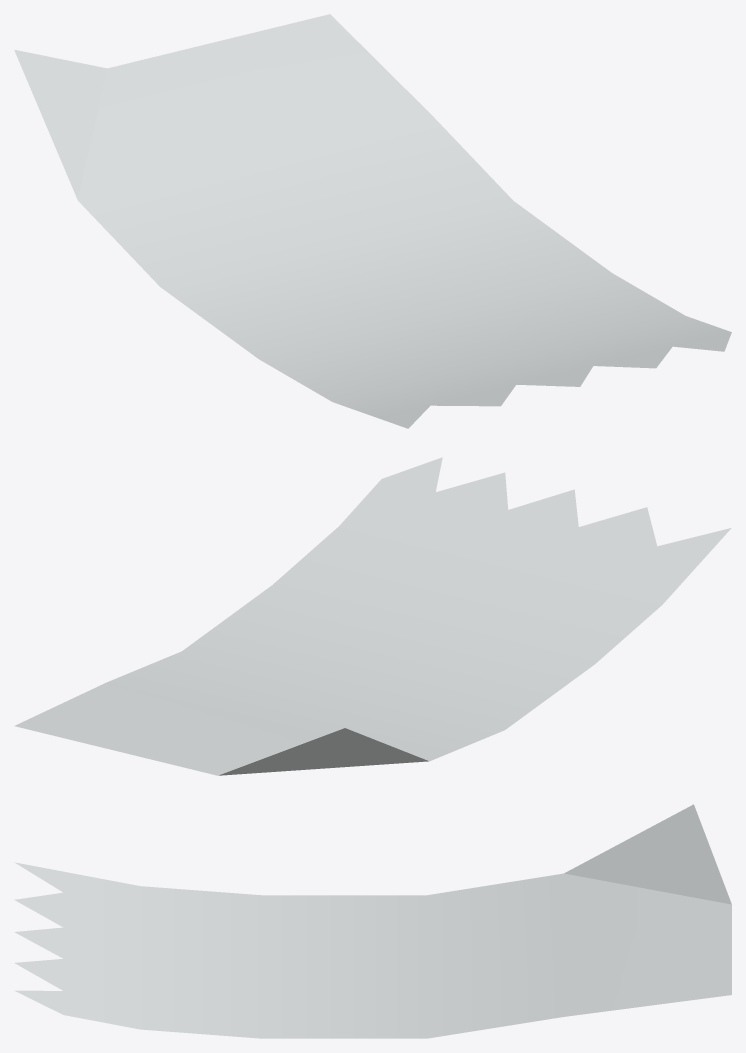
Rendered from receipt.fbx.
The picture shows the model from 3 angles, top to bottom: view 1: azimuth 30°, elevation 25°; view 2: azimuth 150°, elevation 25°; view 3: azimuth 270°, elevation 25°; orthographic projection. The views are drawn at different scales.
Parts seen in each view (by area): view 1: receipt; view 2: receipt; view 3: receipt.
Boxes of the visible parts, <box> form: receipt: <box>14,14,731,428</box>; receipt: <box>14,457,731,775</box>; receipt: <box>14,804,731,1038</box>.
Bounding box in the file's own units: 0.1288 × 0.0406 × 0.2724.
